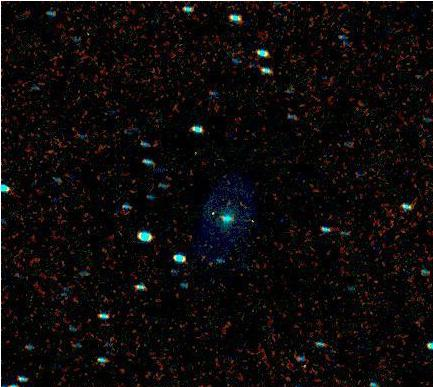star: (202, 195, 232, 225)
